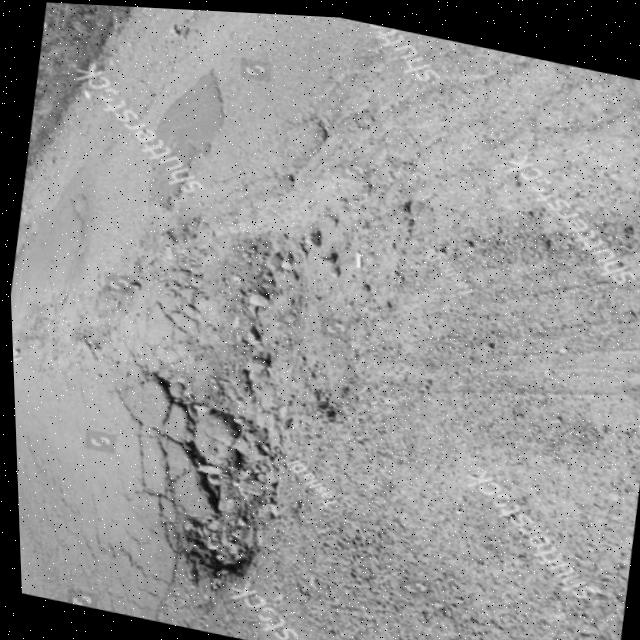Pothole: (114, 177, 365, 602), (55, 251, 152, 369)
